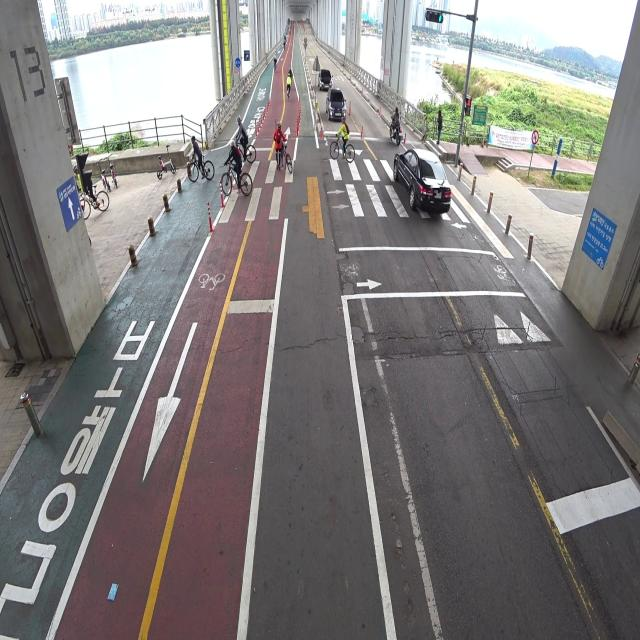Car: (390, 140, 452, 221), (322, 84, 348, 122), (315, 63, 333, 94)
Motorcycle: (388, 106, 402, 148)
